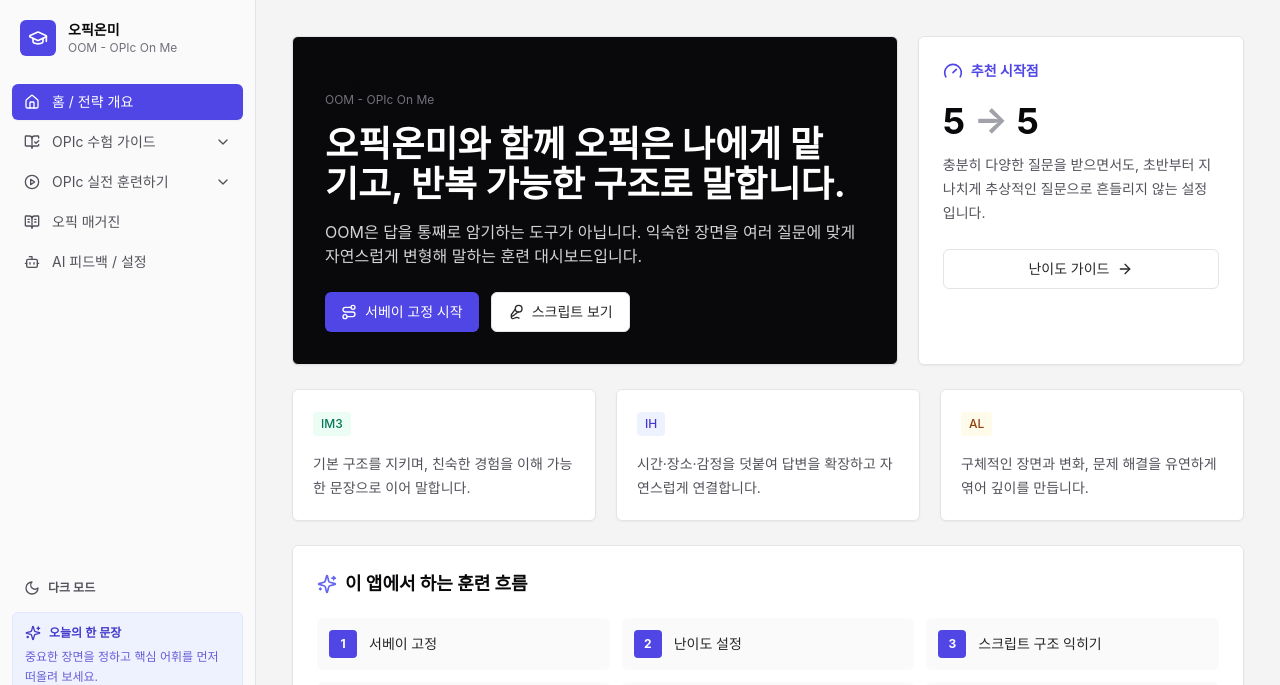
Test: training navigation › shows progress only for training and keeps formula scenarios behind cards
Expected: the text "훈련 진행 0%" is not shown
Click the button "OPIc 실전 훈련하기": (110, 182) [12, 164, 207, 200]
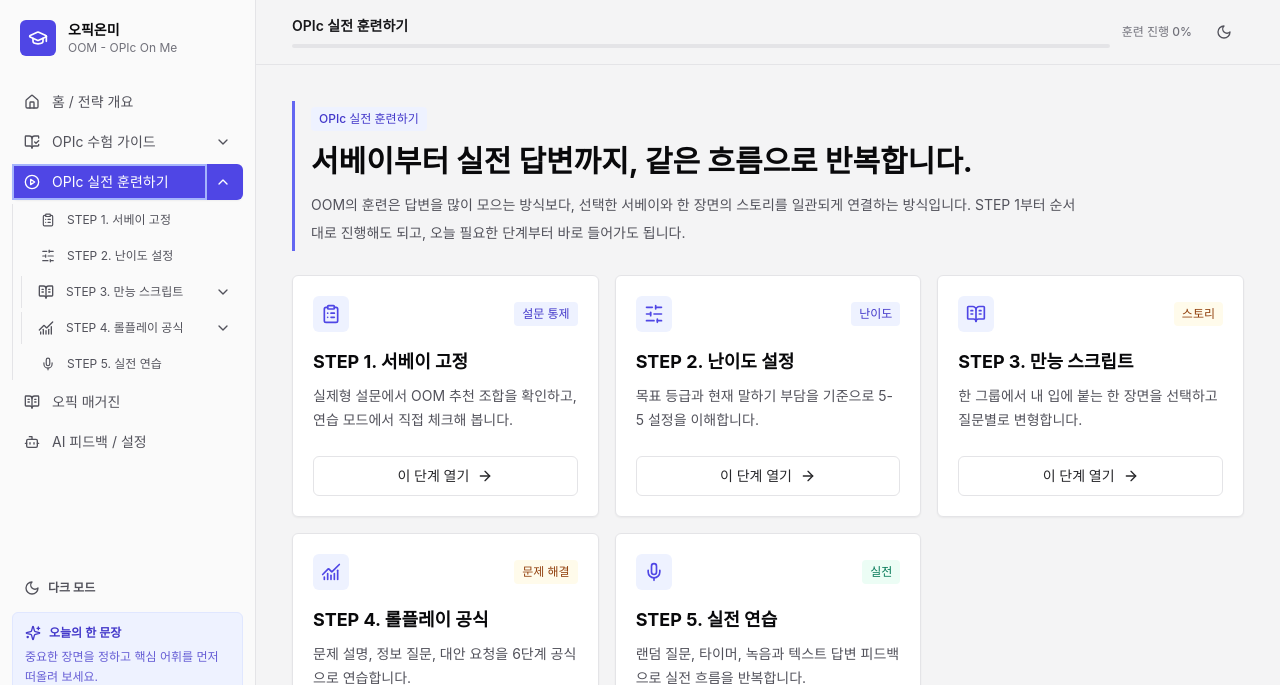
Result: the heading "서베이부터 실전 답변까지, 같은 흐름으로 반복합니다." is shown at [311, 143, 973, 179]
Result: the text "훈련 진행 0%" is shown at [1122, 24, 1192, 40]
Click the button "STEP 4. 롤플레이 공식": (116, 328) [26, 312, 207, 344]
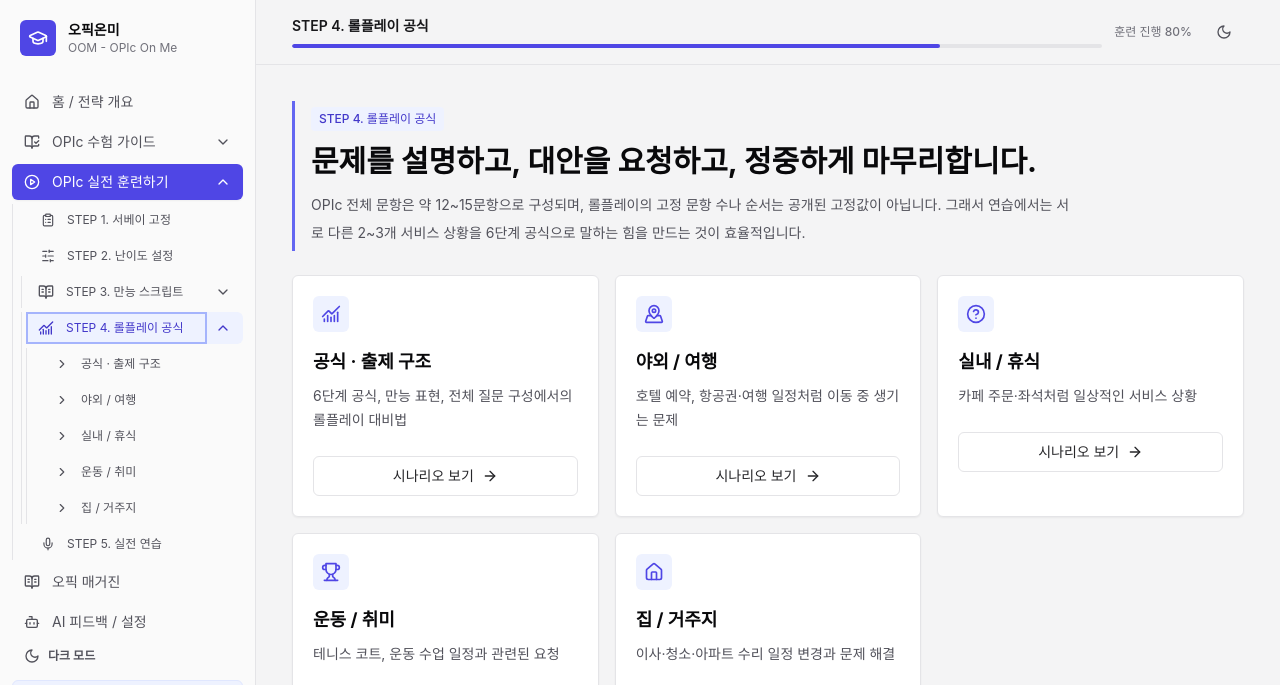
Click the button "공식 · 출제 구조": (143, 364) [35, 348, 251, 380]
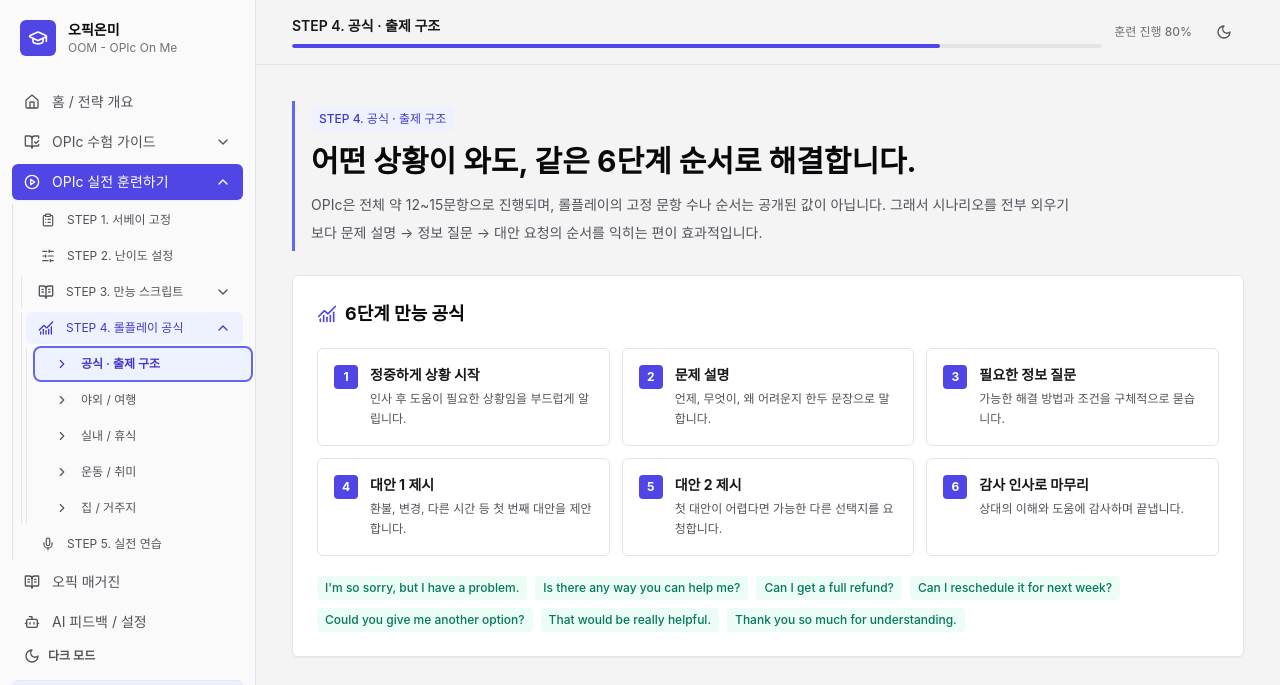
Result: the heading "어떤 상황이 와도, 같은 6단계 순서로 해결합니다." is shown at [311, 143, 917, 179]
